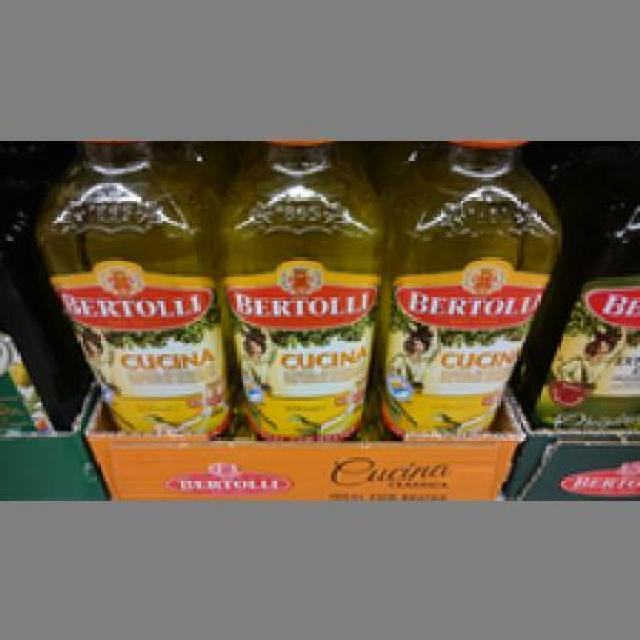Oil: (29, 139, 222, 435), (377, 136, 560, 432), (208, 142, 384, 435)
